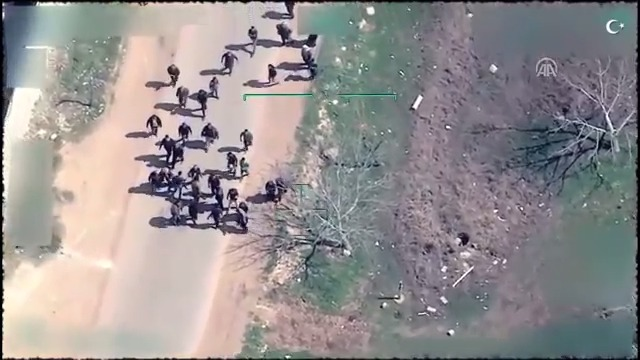insan: (197, 120, 223, 154), (155, 131, 178, 160), (142, 108, 162, 138), (302, 42, 319, 76), (232, 208, 254, 234), (171, 84, 193, 110), (220, 46, 240, 74), (274, 19, 292, 49), (225, 184, 244, 211), (164, 60, 183, 87), (239, 151, 256, 179), (196, 88, 211, 119), (185, 197, 200, 226), (263, 60, 281, 84), (239, 126, 256, 150), (247, 19, 258, 56), (176, 118, 191, 144), (208, 76, 223, 99), (226, 148, 238, 176)
